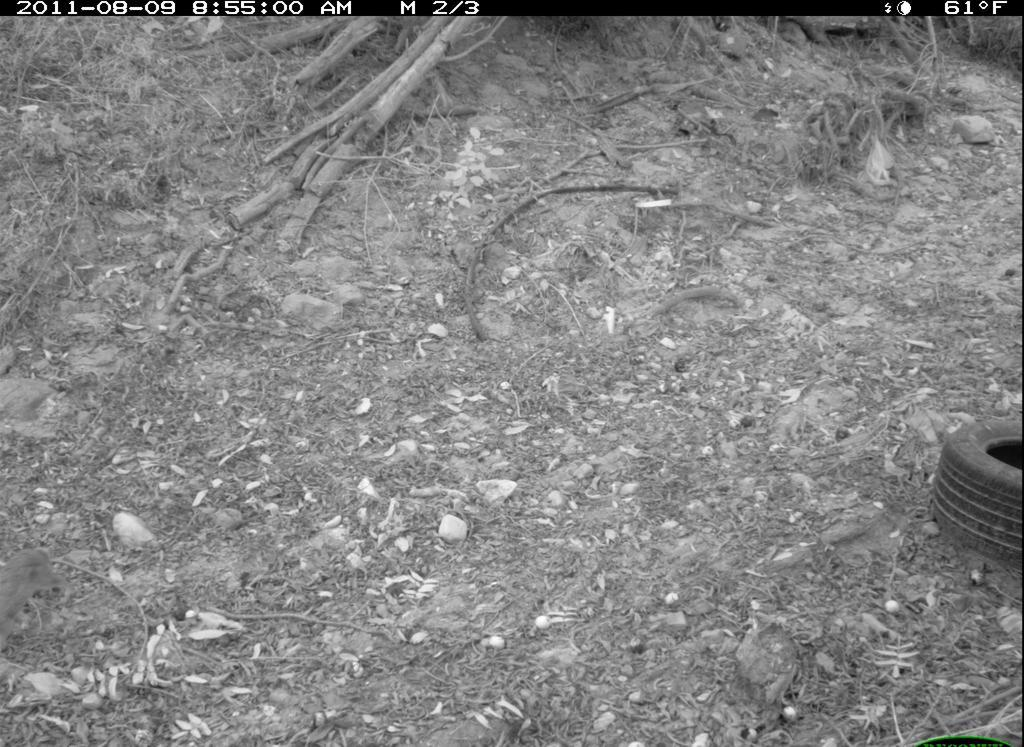rabbit: (1, 533, 84, 644)
